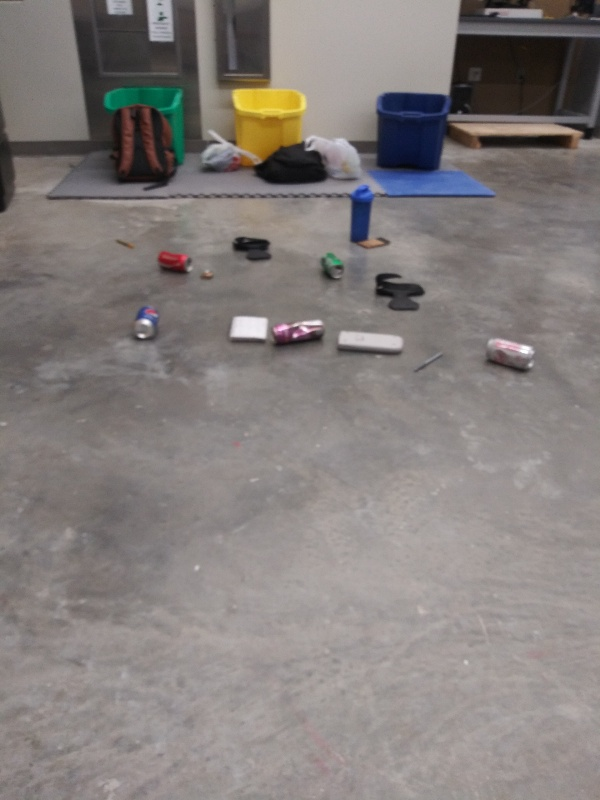can: (483, 335, 536, 373), (267, 318, 326, 348), (131, 301, 162, 339), (156, 248, 195, 277), (319, 251, 347, 284)
